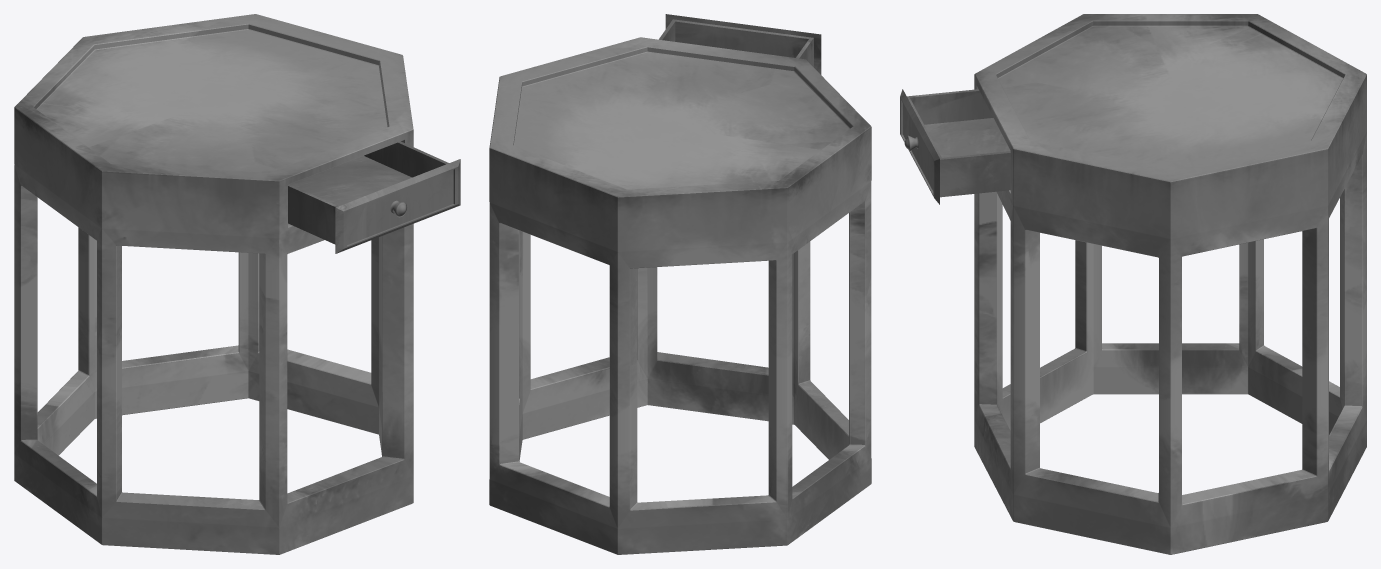
Rendered from side_table.fbx.
3 renders of one model, left to right at view 1: azimuth 30°, elevation 25°; view 2: azimuth 150°, elevation 25°; view 3: azimuth 270°, elevation 25°, orthographic. The views are drawn at different scales.
Parts seen in each view (by area): view 1: painter_table, drawer; view 2: painter_table, drawer; view 3: painter_table, drawer.
Part boxes in pixels (x1,y1,x2,y2): painter_table: (14,14,413,554); drawer: (288,141,460,253); painter_table: (489,37,871,554); drawer: (659,14,821,74); painter_table: (974,14,1366,554); drawer: (900,89,1010,204).
Size of the model in its own units: 72.01 by 74.7 by 84.61.
Materials: 2 (2 with a texture image).
